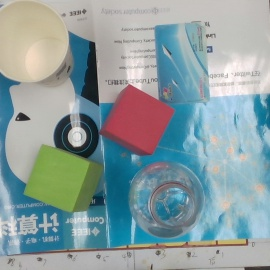bottle: (131, 161, 206, 236)
card: (153, 22, 212, 102)
cup: (2, 1, 78, 91)
